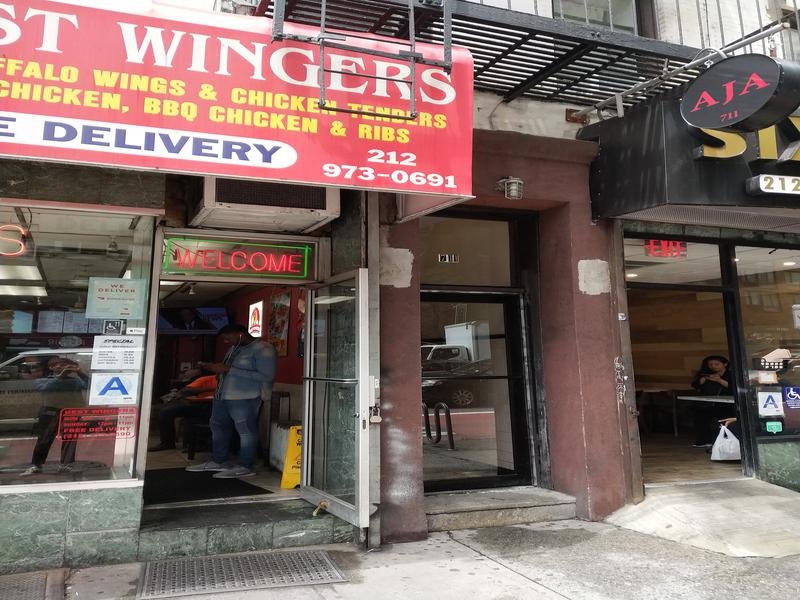door: (422, 283, 541, 490), (308, 269, 377, 532)
